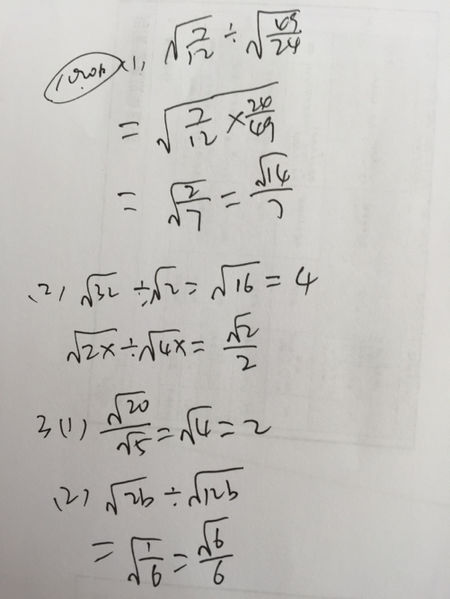division: (245, 182, 297, 205), (217, 342, 267, 355), (173, 194, 212, 209), (242, 107, 276, 121), (264, 27, 307, 38), (177, 34, 215, 46), (197, 555, 238, 566), (138, 551, 168, 566), (94, 425, 153, 432), (182, 118, 214, 130)
sqrt: (150, 76, 291, 162), (161, 174, 214, 237), (246, 8, 310, 56), (161, 14, 218, 66), (127, 532, 173, 594), (138, 323, 196, 367), (187, 465, 245, 509), (207, 259, 264, 302), (100, 476, 156, 518), (248, 148, 297, 192), (64, 326, 121, 363), (100, 389, 152, 426), (175, 403, 215, 450), (197, 515, 243, 555), (76, 266, 118, 307), (150, 261, 188, 302), (222, 310, 256, 345), (115, 427, 149, 461)
